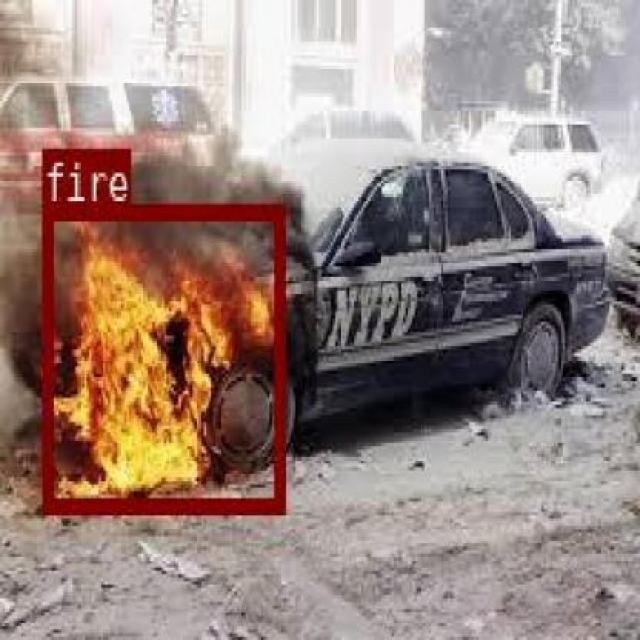Fire: (40, 202, 282, 510)
